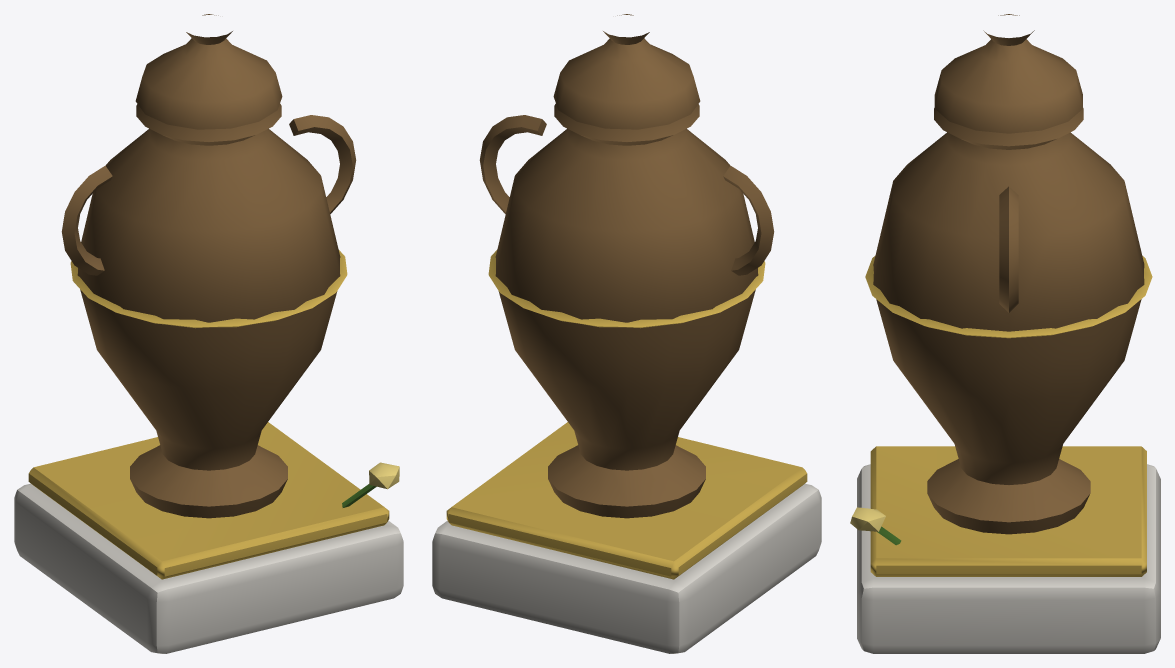
File: item_urn.glb
The picture shows the model from 3 angles, left to right: view 1: azimuth 30°, elevation 25°; view 2: azimuth 150°, elevation 25°; view 3: azimuth 270°, elevation 25°; orthographic projection. The views are drawn at different scales.
Parts seen in each view (by area): view 1: item_urn; view 2: item_urn; view 3: item_urn.
Boxes of the visible parts, x1,y1,x2,y2 form: item_urn: [14, 14, 403, 653]; item_urn: [432, 14, 821, 653]; item_urn: [850, 14, 1160, 653].
Bounding box in the file's own units: 0.254 × 0.465 × 0.2249.
